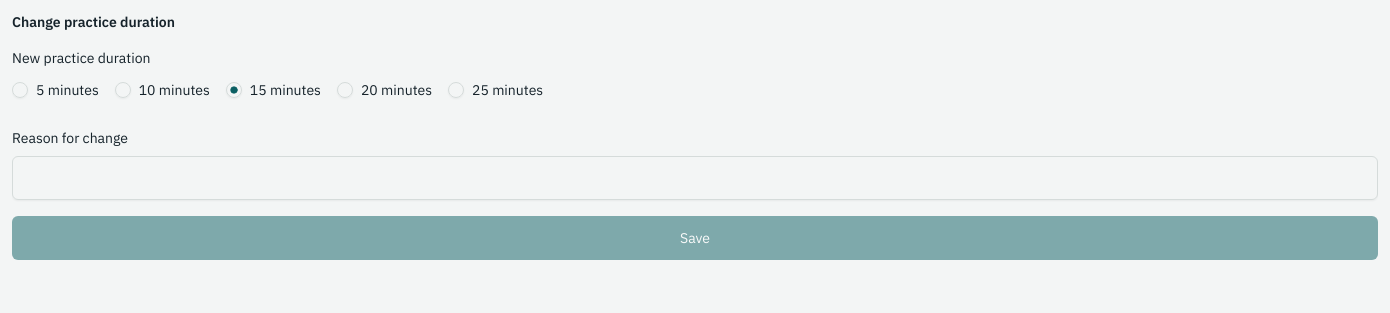
ChangePracticeDuration › success shows the updated confirmation and invalidates programs/current and today
Expected: the radio button named "15 minutes" next to "15" is shown, top-left (226, 82), bottom-right (242, 98)
Click the radio button named "20 minutes" next to "20".
click(345, 90)  # box top-left (337, 82), bottom-right (353, 98)
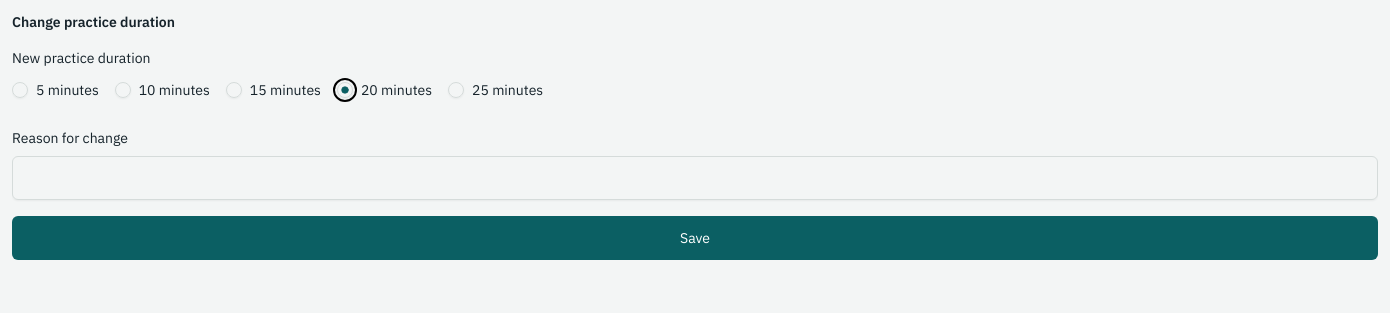
Type "more time" into the field labelled "Reason for change".
click(695, 178); type("more time")  # box top-left (12, 156), bottom-right (1378, 200)
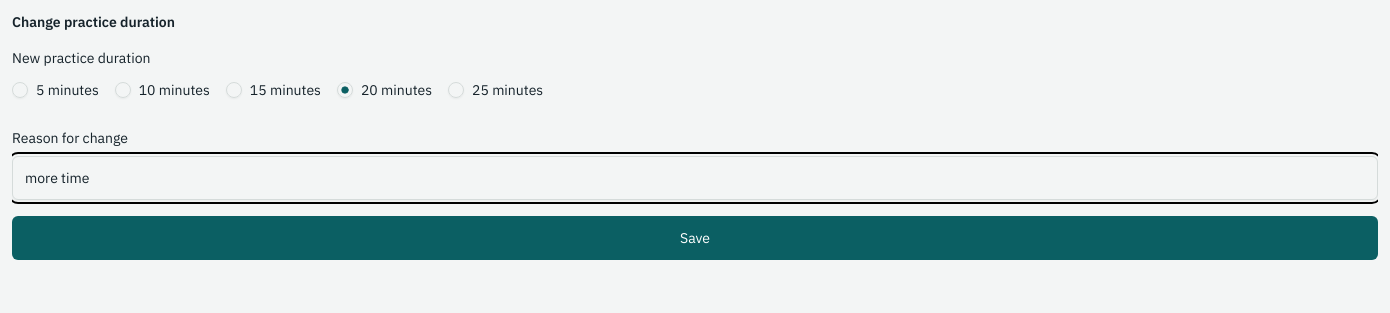
Click the button "Save".
click(695, 238)  # box top-left (12, 216), bottom-right (1378, 260)
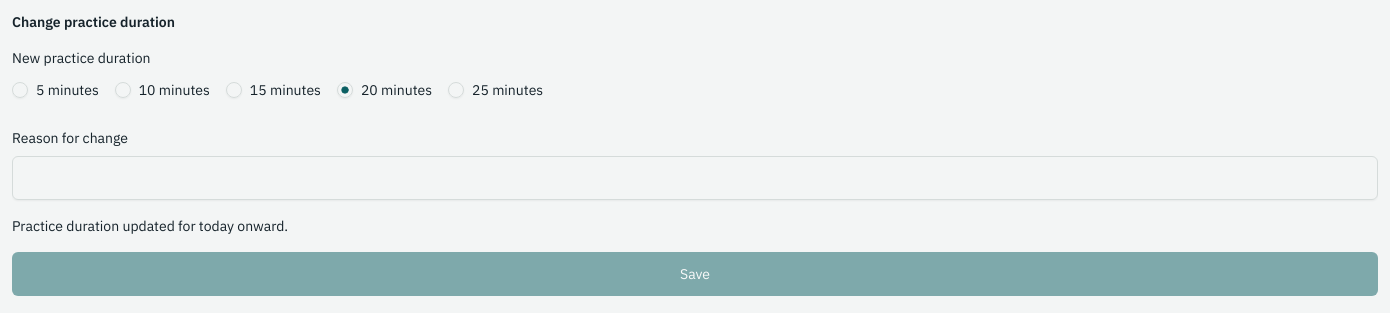
Expected: the text "Practice duration updated for today onward." is shown, top-left (12, 217), bottom-right (288, 235)
